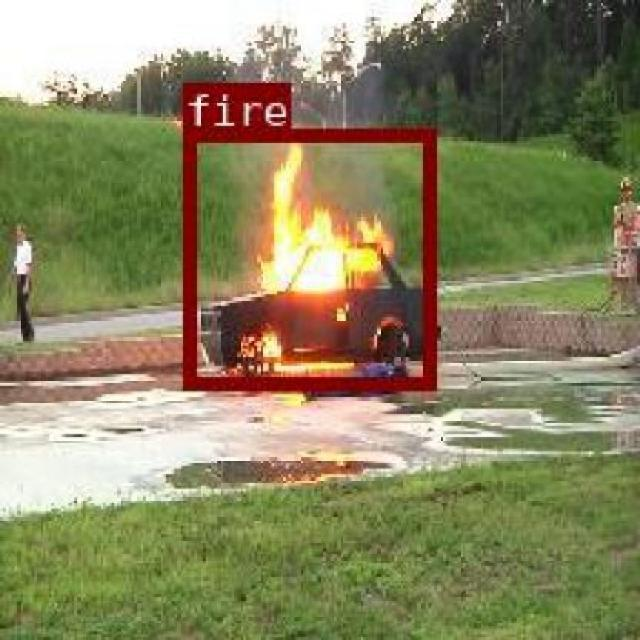Fire: (181, 128, 434, 387)
